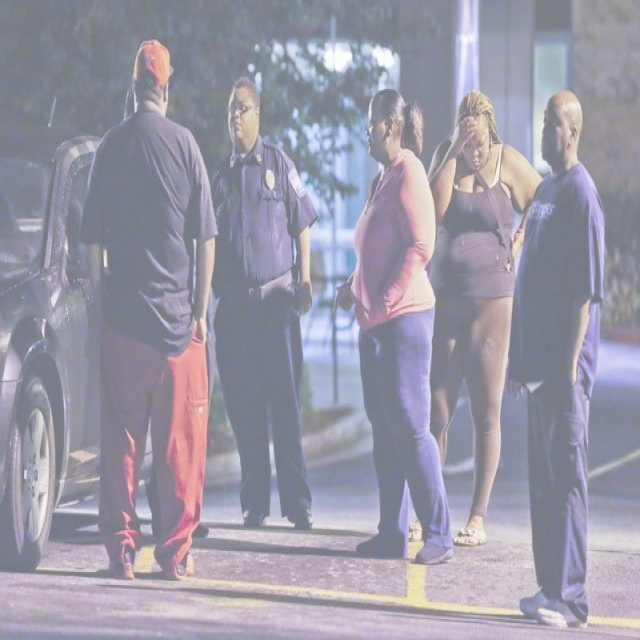pessoa: (77, 32, 224, 586), (403, 84, 550, 548), (328, 82, 458, 568), (502, 85, 609, 631), (198, 68, 322, 535), (121, 81, 212, 547)
